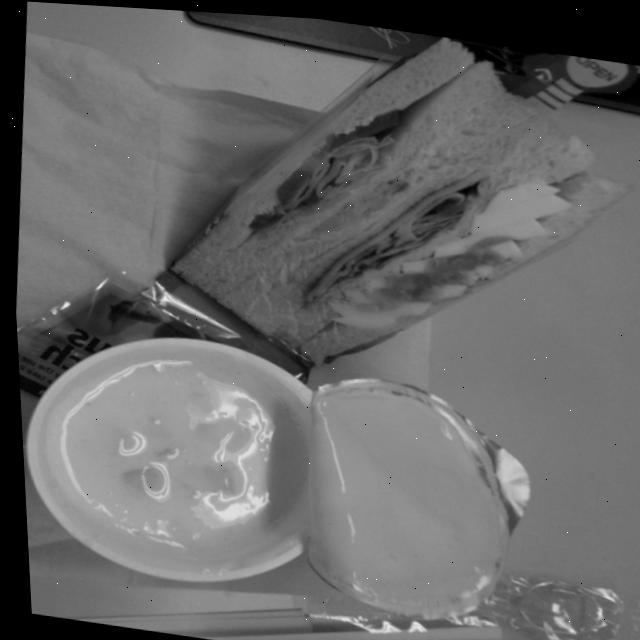三明治: (145, 7, 640, 407)
